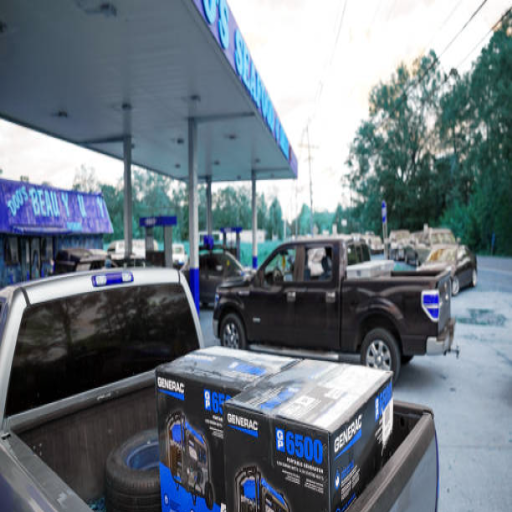portable_generator: (166, 410, 217, 507)
